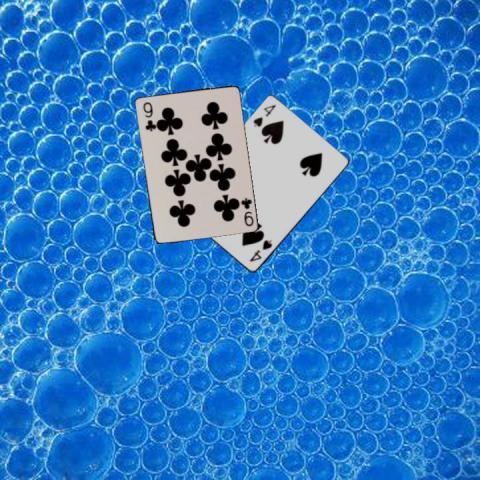4s: (246, 237, 273, 264), (250, 102, 277, 129)
9c: (238, 195, 255, 227), (140, 98, 155, 132)
